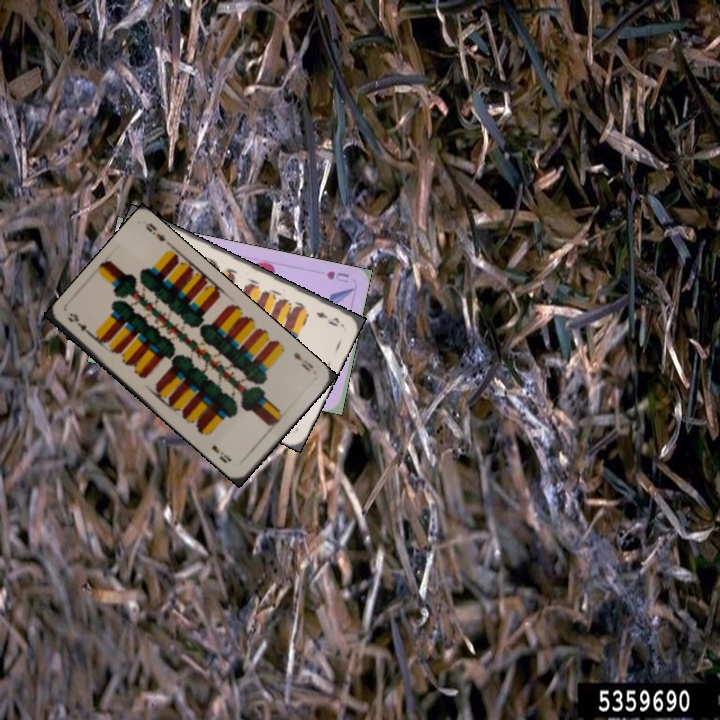E9: (63, 309, 98, 342), (289, 348, 316, 375), (312, 308, 343, 329)
HU: (322, 267, 352, 285)
